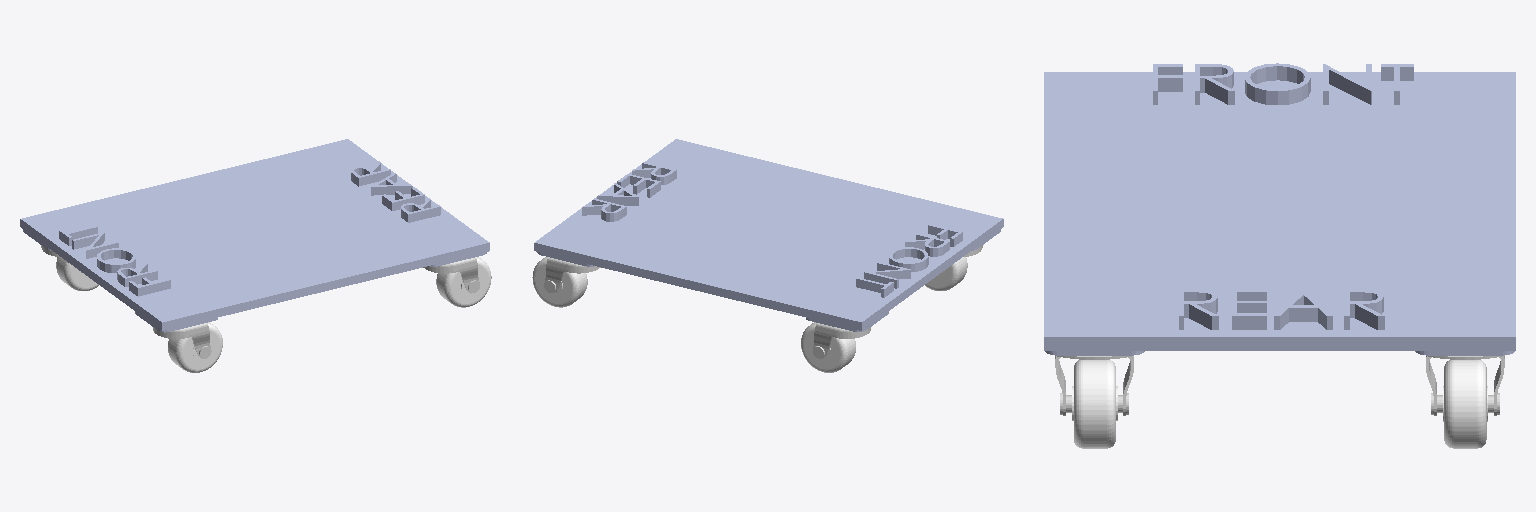
The robot description file, URDF, robot "urdfmobbot":
<?xml version="1.0" encoding="utf-8"?>
<!-- This URDF was automatically created by SolidWorks to URDF Exporter! Originally created by [author] ([email redacted]) 
     Commit Version: 1.6.0-4-g7f85cfe  Build Version: 1.6.7995.38578
     For more information, please see http://wiki.ros.org/sw_urdf_exporter -->
<robot
  name="urdfmobbot">
  <link
    name="base_link">
    <inertial>
      <origin
        xyz="-0.000773317767015506 -0.000114531181035347 -0.00317692371280239"
        rpy="0 0 0" />
      <mass
        value="0.202861353375854" />
      <inertia
        ixx="0.000288055973269891"
        ixy="-1.30741671371134E-07"
        ixz="1.23053449675078E-07"
        iyy="0.000536268984258025"
        iyz="3.09222277595825E-08"
        izz="0.000823461008906858" />
    </inertial>
    <visual>
      <origin
        xyz="0 0 0"
        rpy="0 0 0" />
      <geometry>
        <mesh
          filename="package://urdfmobbot/meshes/base_link.STL" />
      </geometry>
      <material
        name="">
        <color
          rgba="0.792156862745098 0.819607843137255 0.933333333333333 1" />
      </material>
    </visual>
    <collision>
      <origin
        xyz="0 0 0"
        rpy="0 0 0" />
      <geometry>
        <mesh
          filename="package://urdfmobbot/meshes/base_link.STL" />
      </geometry>
    </collision>
  </link>
  <link
    name="linkfrontleft">
    <inertial>
      <origin
        xyz="-0.0048677720729928 1.00390112889315E-10 -0.00919906935736476"
        rpy="0 0 0" />
      <mass
        value="0.0145542102257425" />
      <inertia
        ixx="1.09550256894123E-06"
        ixy="-4.99025634574917E-15"
        ixz="-1.38605292642386E-07"
        iyy="8.15088209063035E-07"
        iyz="-1.43312156169351E-13"
        izz="1.39418606238892E-06" />
    </inertial>
    <visual>
      <origin
        xyz="0 0 0"
        rpy="0 0 0" />
      <geometry>
        <mesh
          filename="package://urdfmobbot/meshes/linkfrontleft.STL" />
      </geometry>
      <material
        name="">
        <color
          rgba="0.898039215686275 0.898039215686275 0.898039215686275 1" />
      </material>
    </visual>
    <collision>
      <origin
        xyz="0 0 0"
        rpy="0 0 0" />
      <geometry>
        <mesh
          filename="package://urdfmobbot/meshes/linkfrontleft.STL" />
      </geometry>
    </collision>
  </link>
  <joint
    name="frontleftjoint"
    type="continuous">
    <origin
      xyz="-0.082648 -0.059083 -0.00675"
      rpy="0 0 3.1416" />
    <parent
      link="base_link" />
    <child
      link="linkfrontleft" />
    <axis
      xyz="0 0 -1" />
    <limit
      effort="1"
      velocity="1" />
  </joint>
  <link
    name="linkfrontleftwheel">
    <inertial>
      <origin
        xyz="0 -3.46944695195361E-18 -1.38777878078145E-17"
        rpy="0 0 0" />
      <mass
        value="0.00860106805645203" />
      <inertia
        ixx="5.60947696052157E-07"
        ixy="9.50162228653394E-24"
        ixz="-7.7223000552084E-23"
        iyy="5.60947696052157E-07"
        iyz="3.500872934864E-25"
        izz="8.70566474812719E-07" />
    </inertial>
    <visual>
      <origin
        xyz="0 0 0"
        rpy="0 0 0" />
      <geometry>
        <mesh
          filename="package://urdfmobbot/meshes/linkfrontleftwheel.STL" />
      </geometry>
      <material
        name="">
        <color
          rgba="1 1 1 1" />
      </material>
    </visual>
    <collision>
      <origin
        xyz="0 0 0"
        rpy="0 0 0" />
      <geometry>
        <mesh
          filename="package://urdfmobbot/meshes/linkfrontleftwheel.STL" />
      </geometry>
    </collision>
  </link>
  <joint
    name="frontleftwheeljoint"
    type="continuous">
    <origin
      xyz="-0.0115 -5E-05 -0.01975"
      rpy="1.5708 0 0" />
    <parent
      link="linkfrontleft" />
    <child
      link="linkfrontleftwheel" />
    <axis
      xyz="0 0 -1" />
    <limit
      effort="1"
      velocity="1" />
  </joint>
  <link
    name="linkfrontright">
    <inertial>
      <origin
        xyz="0.00486777207299277 -1.0039017533936E-10 -0.00919906935736476"
        rpy="0 0 0" />
      <mass
        value="0.0145542102257424" />
      <inertia
        ixx="1.09550256894122E-06"
        ixy="-4.99025782368981E-15"
        ixz="1.38605292642383E-07"
        iyy="8.15088209063027E-07"
        iyz="1.4331215764902E-13"
        izz="1.39418606238891E-06" />
    </inertial>
    <visual>
      <origin
        xyz="0 0 0"
        rpy="0 0 0" />
      <geometry>
        <mesh
          filename="package://urdfmobbot/meshes/linkfrontright.STL" />
      </geometry>
      <material
        name="">
        <color
          rgba="0.898039215686275 0.898039215686275 0.898039215686275 1" />
      </material>
    </visual>
    <collision>
      <origin
        xyz="0 0 0"
        rpy="0 0 0" />
      <geometry>
        <mesh
          filename="package://urdfmobbot/meshes/linkfrontright.STL" />
      </geometry>
    </collision>
  </link>
  <joint
    name="frontrightjoint"
    type="continuous">
    <origin
      xyz="-0.082648 0.058917 -0.00675"
      rpy="0 0 0" />
    <parent
      link="base_link" />
    <child
      link="linkfrontright" />
    <axis
      xyz="0 0 -1" />
    <limit
      effort="1"
      velocity="1" />
  </joint>
  <link
    name="linkfrontrightwheel">
    <inertial>
      <origin
        xyz="0 0 0"
        rpy="0 0 0" />
      <mass
        value="0.00860106805645204" />
      <inertia
        ixx="5.60947696052158E-07"
        ixy="-3.53597693973163E-23"
        ixz="7.43612262403867E-23"
        iyy="8.70566474812721E-07"
        iyz="-4.14001923954543E-24"
        izz="5.60947696052158E-07" />
    </inertial>
    <visual>
      <origin
        xyz="0 0 0"
        rpy="0 0 0" />
      <geometry>
        <mesh
          filename="package://urdfmobbot/meshes/linkfrontrightwheel.STL" />
      </geometry>
      <material
        name="">
        <color
          rgba="1 1 1 1" />
      </material>
    </visual>
    <collision>
      <origin
        xyz="0 0 0"
        rpy="0 0 0" />
      <geometry>
        <mesh
          filename="package://urdfmobbot/meshes/linkfrontrightwheel.STL" />
      </geometry>
    </collision>
  </link>
  <joint
    name="frontrightwheeljoint"
    type="continuous">
    <origin
      xyz="0.0115 5E-05 -0.01975"
      rpy="0 0 3.1416" />
    <parent
      link="linkfrontright" />
    <child
      link="linkfrontrightwheel" />
    <axis
      xyz="0 1 0" />
    <limit
      effort="1"
      velocity="1" />
  </joint>
  <link
    name="linkrearleft">
    <inertial>
      <origin
        xyz="-0.00486777207299281 1.00390057378164E-10 -0.00919906935736476"
        rpy="0 0 0" />
      <mass
        value="0.0145542102257424" />
      <inertia
        ixx="1.09550256894122E-06"
        ixy="-4.99026194646806E-15"
        ixz="-1.38605292642384E-07"
        iyy="8.15088209063028E-07"
        iyz="-1.43312160218769E-13"
        izz="1.39418606238891E-06" />
    </inertial>
    <visual>
      <origin
        xyz="0 0 0"
        rpy="0 0 0" />
      <geometry>
        <mesh
          filename="package://urdfmobbot/meshes/linkrearleft.STL" />
      </geometry>
      <material
        name="">
        <color
          rgba="0.898039215686275 0.898039215686275 0.898039215686275 1" />
      </material>
    </visual>
    <collision>
      <origin
        xyz="0 0 0"
        rpy="0 0 0" />
      <geometry>
        <mesh
          filename="package://urdfmobbot/meshes/linkrearleft.STL" />
      </geometry>
    </collision>
  </link>
  <joint
    name="rearleftjoint"
    type="continuous">
    <origin
      xyz="0.081352 -0.059083 -0.00675"
      rpy="0 0 3.1416" />
    <parent
      link="base_link" />
    <child
      link="linkrearleft" />
    <axis
      xyz="0 0 -1" />
    <limit
      effort="1"
      velocity="1" />
  </joint>
  <link
    name="linkrearleftwheel">
    <inertial>
      <origin
        xyz="-1.38777878078145E-17 1.38777878078145E-17 0"
        rpy="0 0 0" />
      <mass
        value="0.00860106805645203" />
      <inertia
        ixx="5.60947696052157E-07"
        ixy="-5.32150628315138E-23"
        ixz="3.92273393370754E-23"
        iyy="8.70566474812719E-07"
        iyz="-8.89159863609013E-24"
        izz="5.60947696052157E-07" />
    </inertial>
    <visual>
      <origin
        xyz="0 0 0"
        rpy="0 0 0" />
      <geometry>
        <mesh
          filename="package://urdfmobbot/meshes/linkrearleftwheel.STL" />
      </geometry>
      <material
        name="">
        <color
          rgba="1 1 1 1" />
      </material>
    </visual>
    <collision>
      <origin
        xyz="0 0 0"
        rpy="0 0 0" />
      <geometry>
        <mesh
          filename="package://urdfmobbot/meshes/linkrearleftwheel.STL" />
      </geometry>
    </collision>
  </link>
  <joint
    name="rearleftwheeljoint"
    type="continuous">
    <origin
      xyz="-0.0115 -5E-05 -0.01975"
      rpy="0 0 0" />
    <parent
      link="linkrearleft" />
    <child
      link="linkrearleftwheel" />
    <axis
      xyz="0 1 0" />
    <limit
      effort="1"
      velocity="1" />
  </joint>
  <link
    name="linkrearright">
    <inertial>
      <origin
        xyz="-0.00486777207299283 1.00390126767103E-10 -0.00919906935736477"
        rpy="0 0 0" />
      <mass
        value="0.0145542102257425" />
      <inertia
        ixx="1.09550256894122E-06"
        ixy="-4.99025241353307E-15"
        ixz="-1.38605292642387E-07"
        iyy="8.15088209063038E-07"
        iyz="-1.43312152558793E-13"
        izz="1.39418606238892E-06" />
    </inertial>
    <visual>
      <origin
        xyz="0 0 0"
        rpy="0 0 0" />
      <geometry>
        <mesh
          filename="package://urdfmobbot/meshes/linkrearright.STL" />
      </geometry>
      <material
        name="">
        <color
          rgba="0.898039215686275 0.898039215686275 0.898039215686275 1" />
      </material>
    </visual>
    <collision>
      <origin
        xyz="0 0 0"
        rpy="0 0 0" />
      <geometry>
        <mesh
          filename="package://urdfmobbot/meshes/linkrearright.STL" />
      </geometry>
    </collision>
  </link>
  <joint
    name="rearrightjoint"
    type="continuous">
    <origin
      xyz="0.081352 0.058917 -0.00675"
      rpy="0 0 3.1416" />
    <parent
      link="base_link" />
    <child
      link="linkrearright" />
    <axis
      xyz="0 0 -1" />
    <limit
      effort="1"
      velocity="1" />
  </joint>
  <link
    name="linkrearrightwheel">
    <inertial>
      <origin
        xyz="1.38777878078145E-17 6.93889390390723E-18 3.46944695195361E-18"
        rpy="0 0 0" />
      <mass
        value="0.00860106805645204" />
      <inertia
        ixx="5.60947696052157E-07"
        ixy="-7.00820505565363E-23"
        ixz="4.04732553623973E-23"
        iyy="8.7056647481272E-07"
        iyz="4.32566611903724E-24"
        izz="5.60947696052157E-07" />
    </inertial>
    <visual>
      <origin
        xyz="0 0 0"
        rpy="0 0 0" />
      <geometry>
        <mesh
          filename="package://urdfmobbot/meshes/linkrearrightwheel.STL" />
      </geometry>
      <material
        name="">
        <color
          rgba="1 1 1 1" />
      </material>
    </visual>
    <collision>
      <origin
        xyz="0 0 0"
        rpy="0 0 0" />
      <geometry>
        <mesh
          filename="package://urdfmobbot/meshes/linkrearrightwheel.STL" />
      </geometry>
    </collision>
  </link>
  <joint
    name="rearrightwheeljoint"
    type="continuous">
    <origin
      xyz="-0.0115 -5E-05 -0.01975"
      rpy="0 0 0" />
    <parent
      link="linkrearright" />
    <child
      link="linkrearrightwheel" />
    <axis
      xyz="0 1 0" />
    <limit
      effort="1"
      velocity="1" />
  </joint>
</robot>

--- Facts derived from the render (not from the file) ---
Views: 3 orthographic renders of the robot side by side, from view 1: azimuth 30°, elevation 25°; view 2: azimuth 150°, elevation 25°; view 3: azimuth 270°, elevation 25°.
Model urdfmobbot with 9 links and 8 joints (8 continuous), rooted at base_link, posed every joint at zero.
Visible links, largest first — view 1: base_link, linkfrontleftwheel, linkrearleftwheel, linkfrontleft, linkrearleft, linkfrontrightwheel; view 2: base_link, linkfrontrightwheel, linkrearrightwheel, linkfrontright, linkrearright, linkfrontleftwheel; view 3: base_link, linkrearrightwheel, linkrearleftwheel, linkrearright, linkrearleft.
Boxes of the visible links, x1,y1,x2,y2 form: base_link: [20, 139, 489, 332]; linkfrontleftwheel: [168, 322, 222, 372]; linkrearleftwheel: [436, 257, 491, 307]; linkfrontleft: [153, 323, 211, 358]; linkrearleft: [423, 257, 479, 293]; linkfrontrightwheel: [56, 257, 98, 290]; base_link: [534, 139, 1003, 331]; linkfrontrightwheel: [801, 322, 855, 372]; linkrearrightwheel: [532, 257, 587, 307]; linkfrontright: [813, 323, 870, 358]; linkrearright: [544, 257, 600, 292]; linkfrontleftwheel: [925, 257, 967, 290]; base_link: [1044, 63, 1515, 355]; linkrearrightwheel: [1443, 360, 1487, 448]; linkrearleftwheel: [1072, 360, 1117, 448]; linkrearright: [1426, 355, 1504, 415]; linkrearleft: [1055, 355, 1133, 415].
Size in the robot's own frame: 0.2077 by 0.15 by 0.0457 metres.
9 mesh visuals loaded from 9 distinct referenced files (9 binary STL).